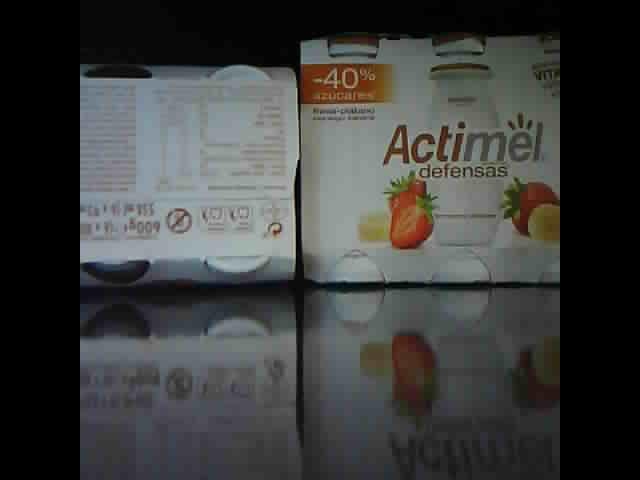actimel: (299, 27, 560, 285), (80, 59, 302, 287)
